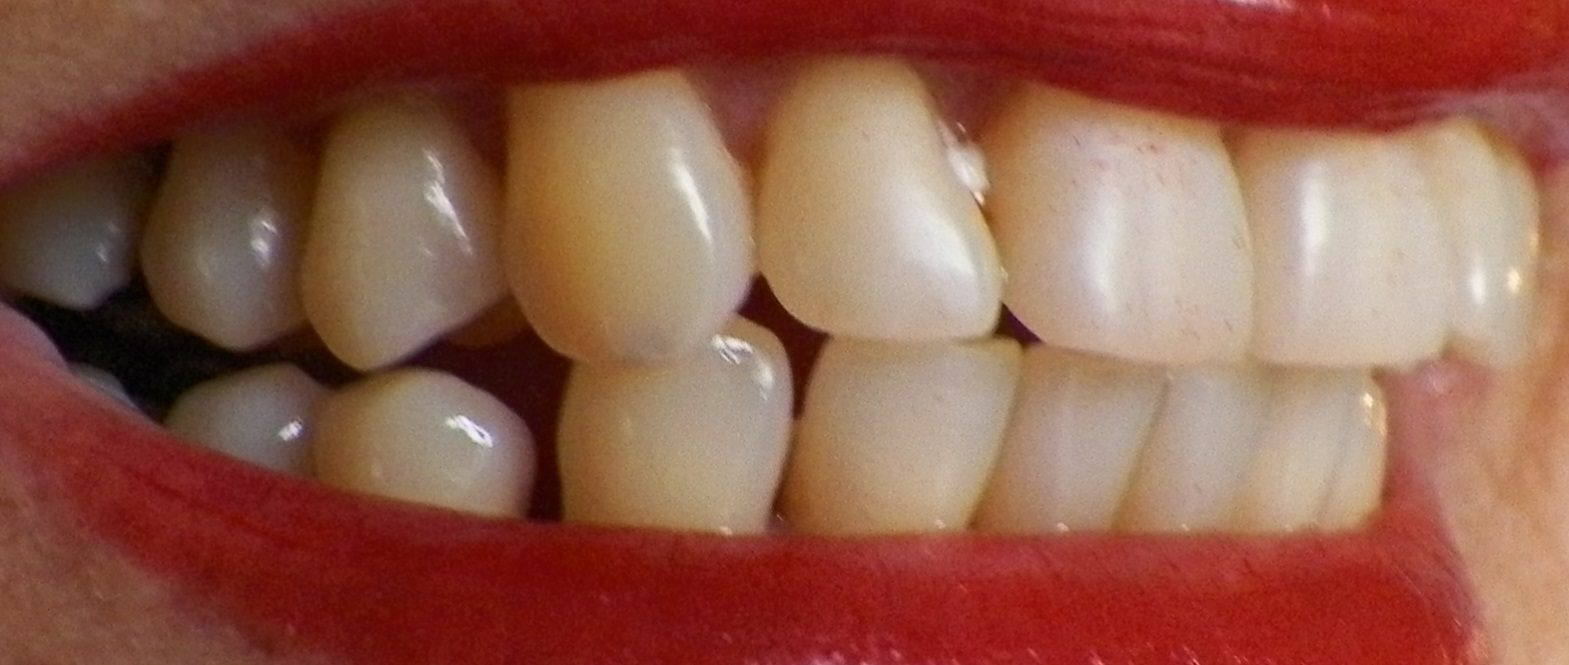boca: (51, 64, 1537, 554)
